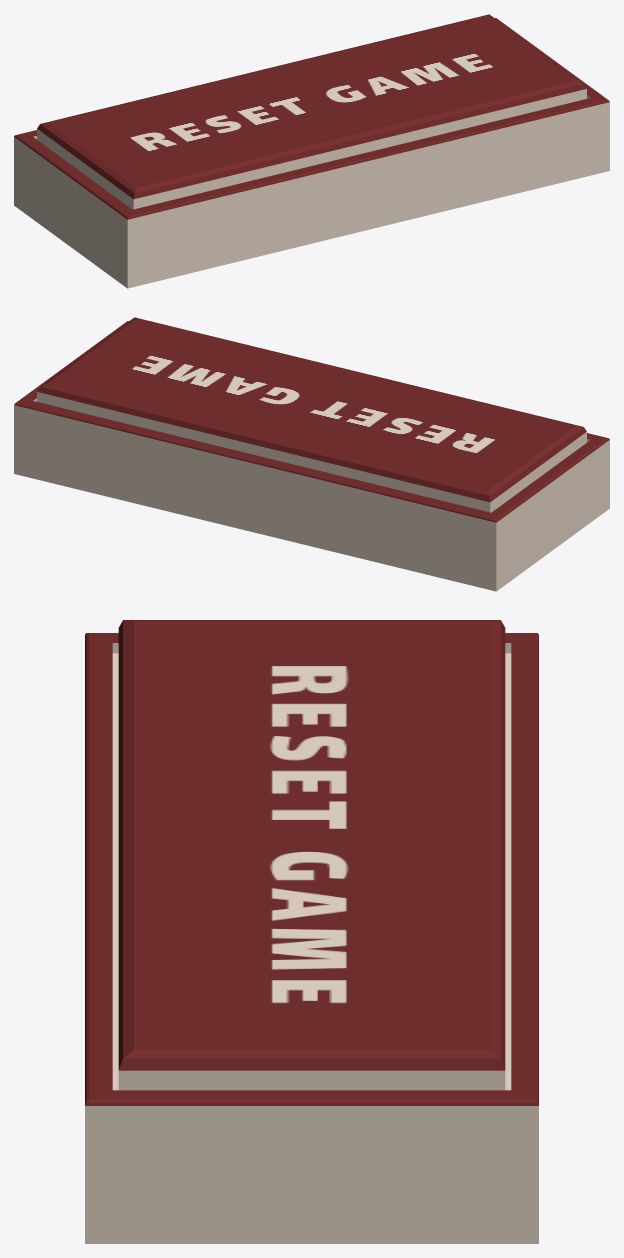
The model's file is reset-button.glb.
3 views of the same model, one above another, from view 1: azimuth 30°, elevation 25°; view 2: azimuth 150°, elevation 25°; view 3: azimuth 270°, elevation 25° (orthographic). The views are drawn at different scales.
Parts seen in each view (by area): view 1: reset-button-cap, reset-button; view 2: reset-button-cap, reset-button; view 3: reset-button-cap, reset-button.
Part boxes in pixels (x1,y1,x2,y2): reset-button-cap: (37, 14, 586, 209); reset-button: (14, 18, 609, 288); reset-button-cap: (37, 317, 586, 512); reset-button: (14, 321, 609, 591); reset-button-cap: (118, 620, 505, 1090); reset-button: (85, 633, 538, 1243).
Bounding box in the file's own units: 0.2284 × 0.0392 × 0.0931.
1 material, 1 textured.
